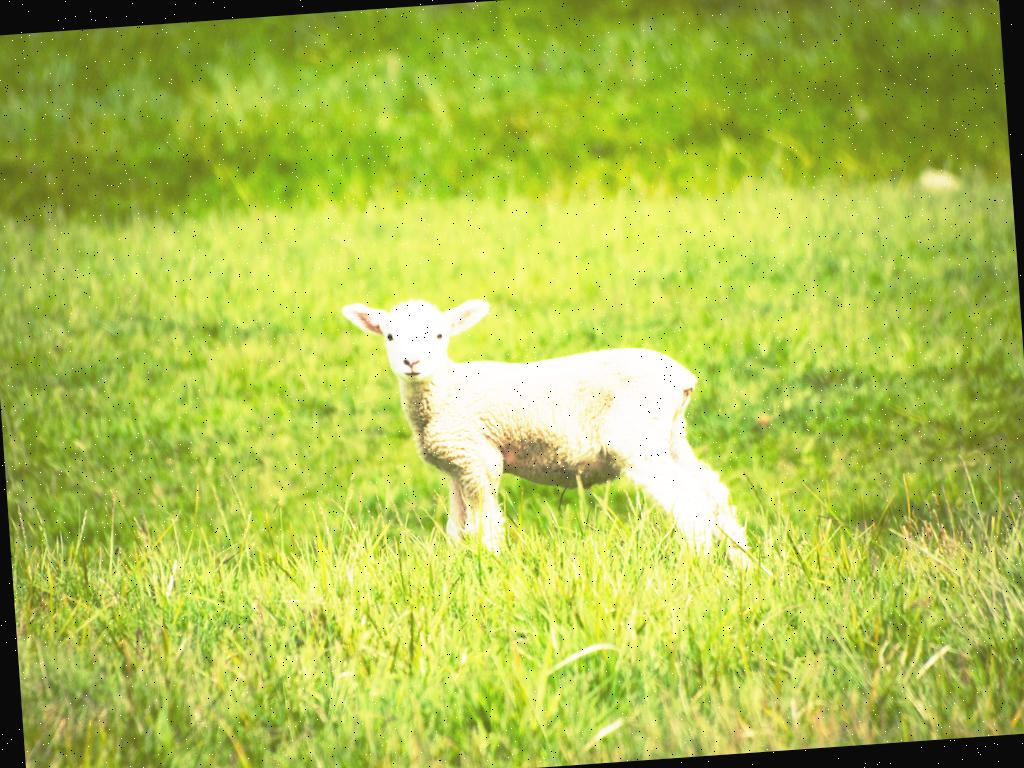Sheep: (343, 280, 749, 606)
